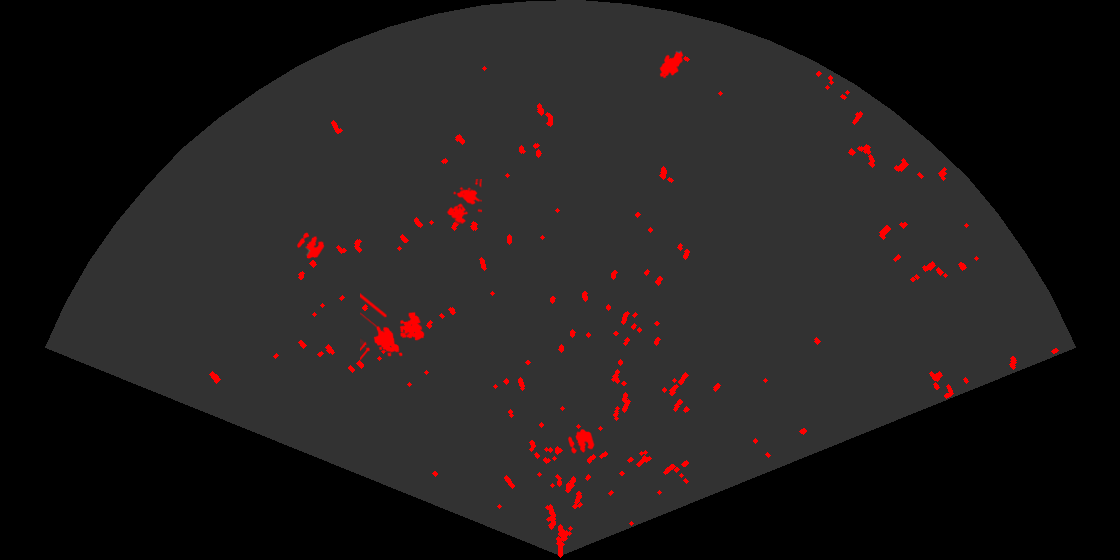AUV: (658, 50, 685, 80)
ball: (295, 231, 326, 260), (566, 427, 596, 456)
cage: (360, 293, 426, 362), (445, 179, 482, 226)
